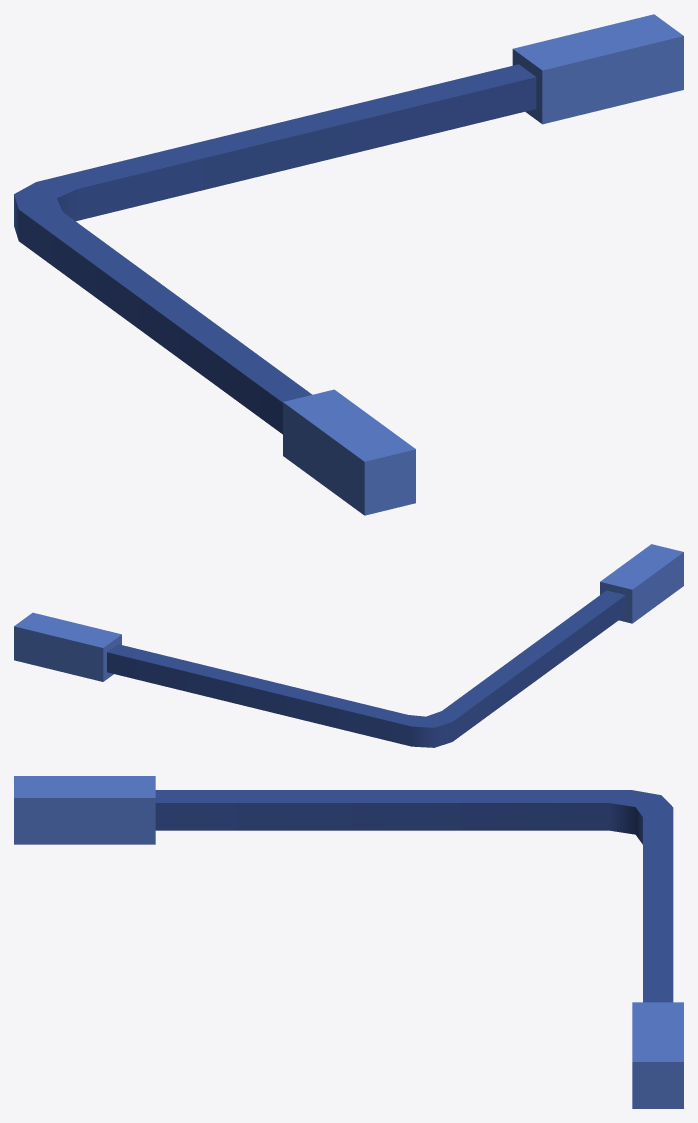
File: Cable_D_2_3.fbx
3 views of the same model, one above another, from view 1: azimuth 30°, elevation 25°; view 2: azimuth 150°, elevation 25°; view 3: azimuth 270°, elevation 25° (orthographic). The views are drawn at different scales.
Visible parts, largest first — view 1: Cable_D_2_3; view 2: Cable_D_2_3; view 3: Cable_D_2_3.
Part boxes in pixels (bbox=[...]): Cable_D_2_3: bbox=[14, 14, 683, 515]; Cable_D_2_3: bbox=[14, 544, 683, 747]; Cable_D_2_3: bbox=[14, 776, 683, 1108].
Bounding box in the file's own units: 129 × 9.83 × 128.
